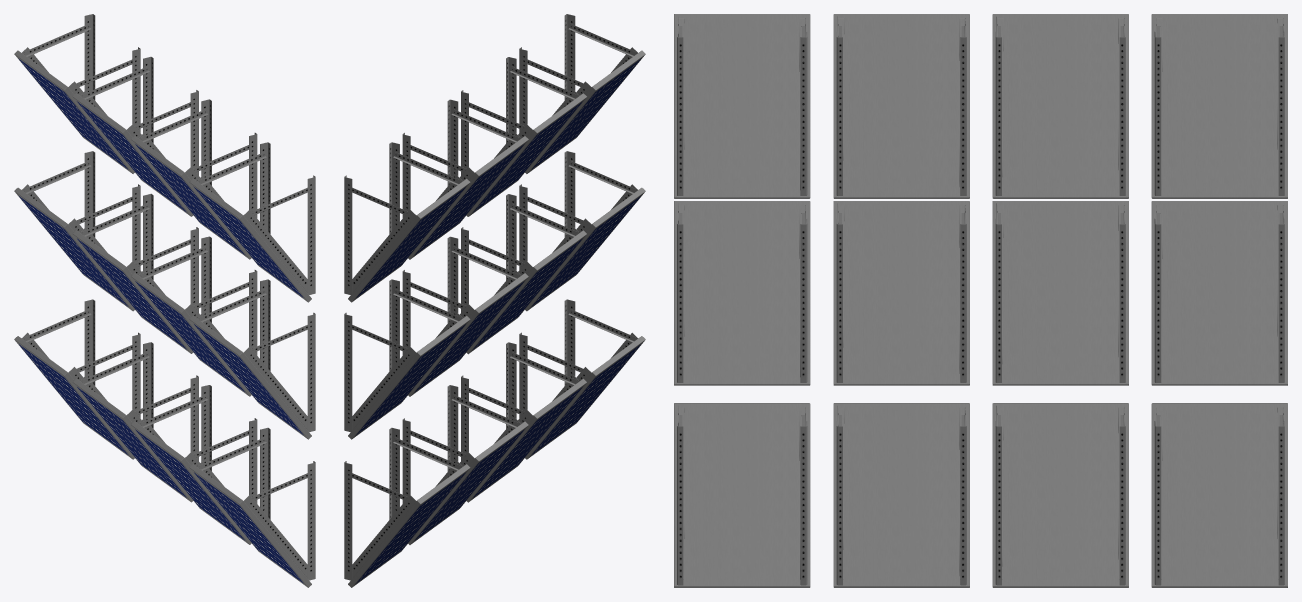
The model's file is solar01.fbx.
3 renders of one model, left to right at view 1: azimuth 30°, elevation 25°; view 2: azimuth 150°, elevation 25°; view 3: azimuth 270°, elevation 25°, orthographic. The views are drawn at different scales.
Parts seen in each view (by area): view 1: solarpanle_01.008; view 2: solarpanle_01.008; view 3: solarpanle_01.008.
Boxes of the visible parts, left/top/right/bottom form: solarpanle_01.008: left=14, top=14, right=315, bottom=587; solarpanle_01.008: left=344, top=14, right=645, bottom=587; solarpanle_01.008: left=674, top=14, right=1287, bottom=587.
Bounding box in the file's own units: 1000 × 1000 × 200.
1 material, 1 textured.
